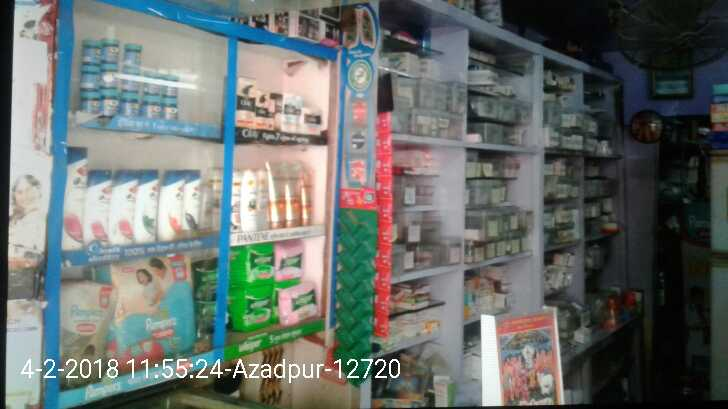vicks: (81, 31, 175, 126)
